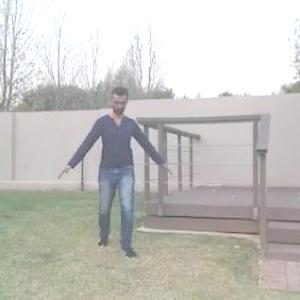land: (68, 80, 179, 272)
